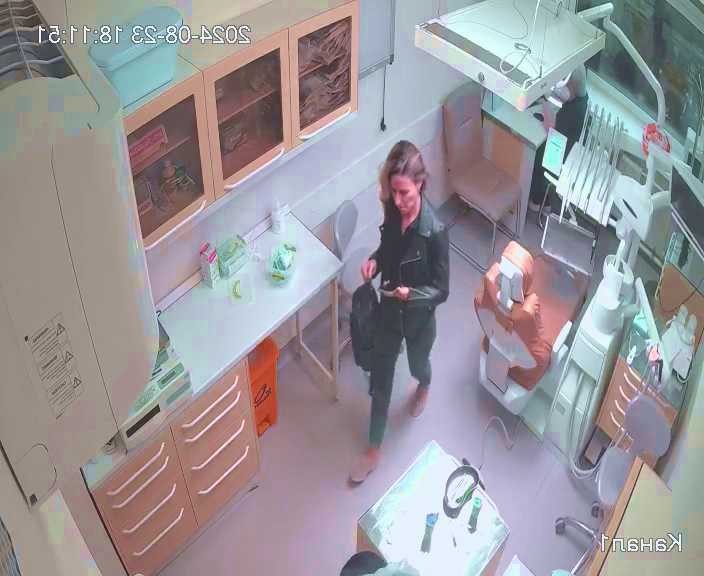Empty: (474, 241, 594, 410)
